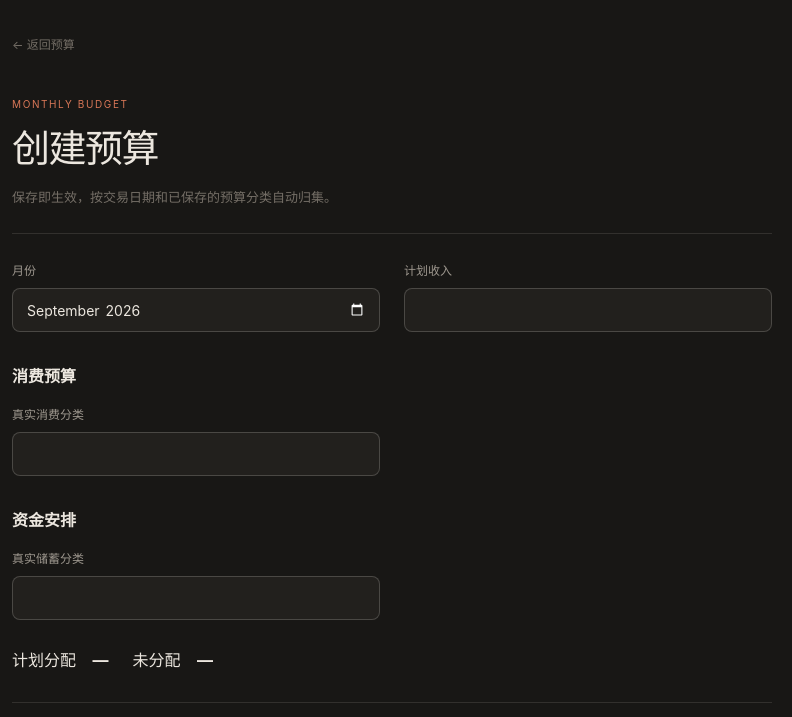
it: BudgetForm › saves real bucket amounts including zero in one action, without a draft or preview step
Expected: the heading "消费预算" is shown, [12,366,76,386]
Expected: the heading "资金安排" is shown, [12,510,76,530]
Type "2000" into the number field labelled "计划收入".
click(588, 310); type("2000")  # box [404,288,772,332]
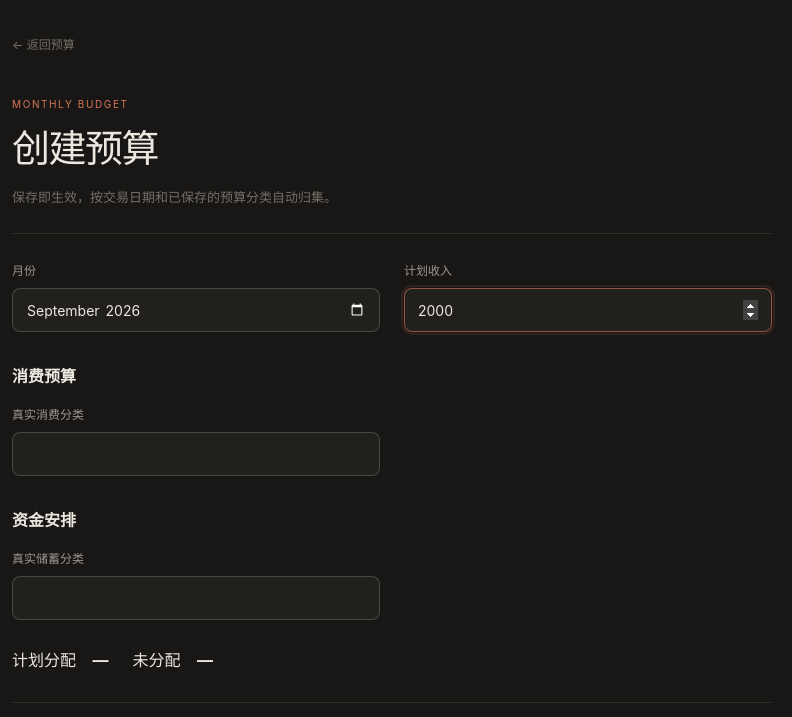
Type "500.25" into the number field labelled "真实消费分类".
click(196, 454); type("500.25")  # box [12,432,380,476]
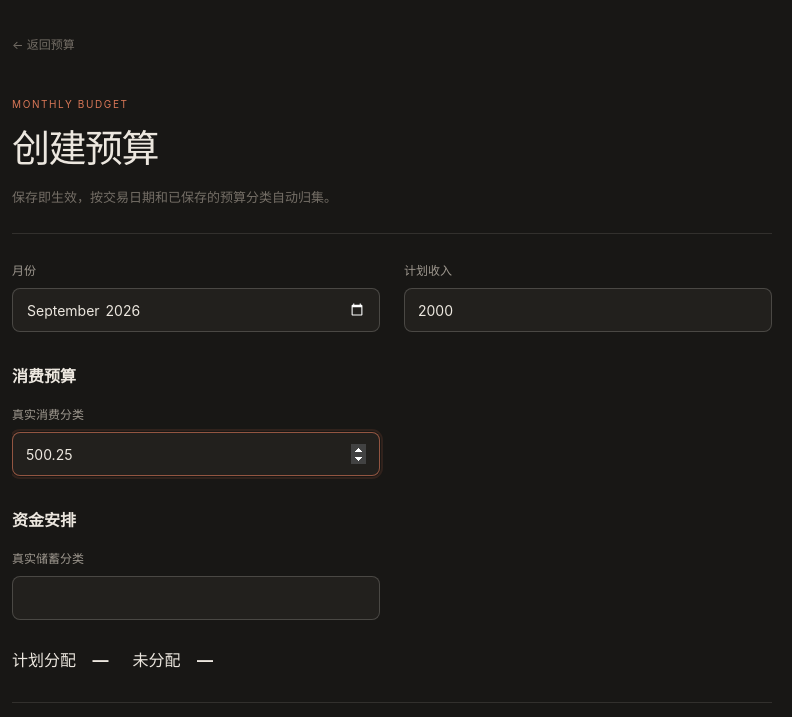
Type "0" into the number field labelled "真实储蓄分类".
click(196, 598); type("0")  # box [12,576,380,620]
(page scrolled)
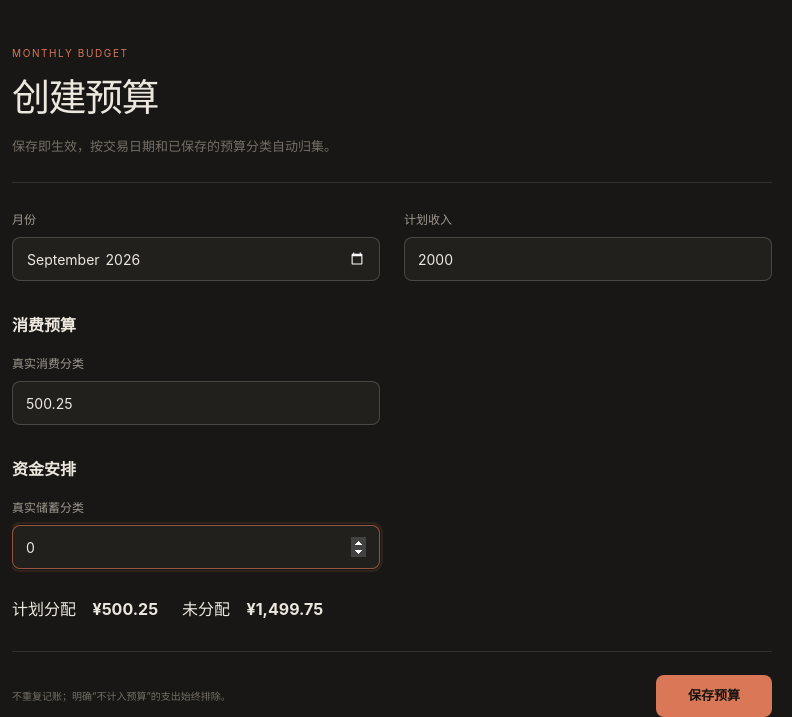
Click the button "保存预算".
click(714, 696)  # box [656,675,772,716]
(page scrolled)
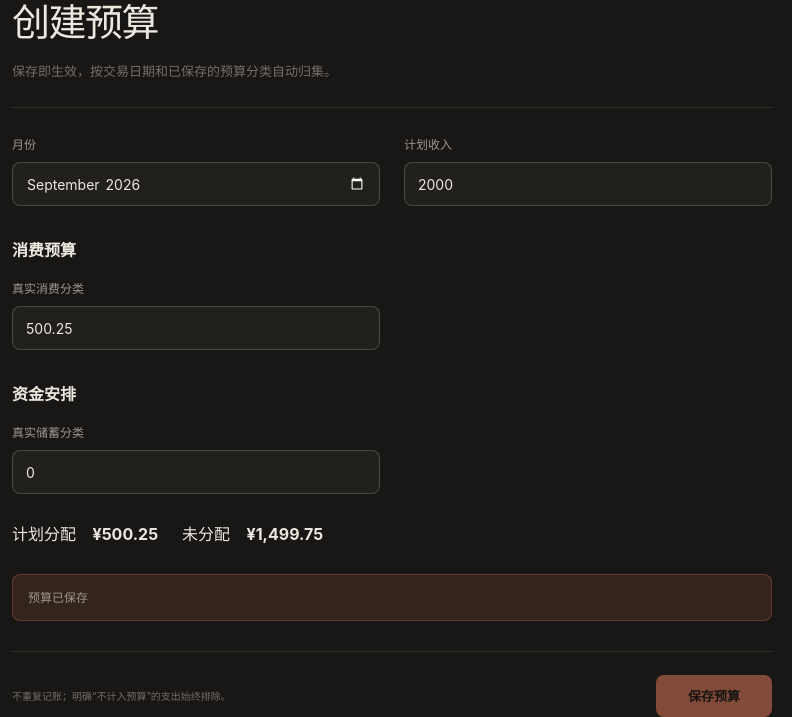
Expected: the button "保存预算" is disabled, [656,675,772,716]
